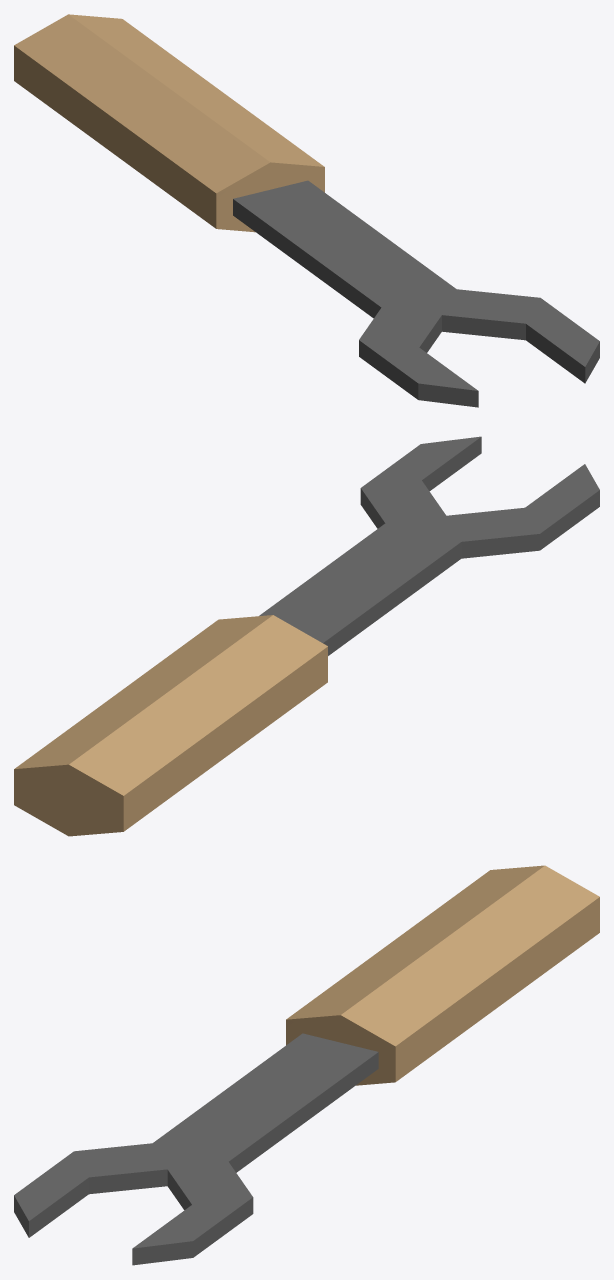
The model's file is Fork_lift_Certified.fbx.
The picture shows the model from 3 angles, top to bottom: view 1: azimuth 30°, elevation 25°; view 2: azimuth 150°, elevation 25°; view 3: azimuth 330°, elevation 25°; orthographic projection.
Visible parts, largest first — view 1: Widelec; view 2: Widelec; view 3: Widelec.
Part boxes in pixels (x1,y1,x2,y2): Widelec: [14, 14, 599, 407]; Widelec: [14, 436, 599, 836]; Widelec: [14, 865, 599, 1265].
Bounding box in the file's own units: 5.64 × 2.13 × 25.17.
Materials: 1 (1 with a texture image).
